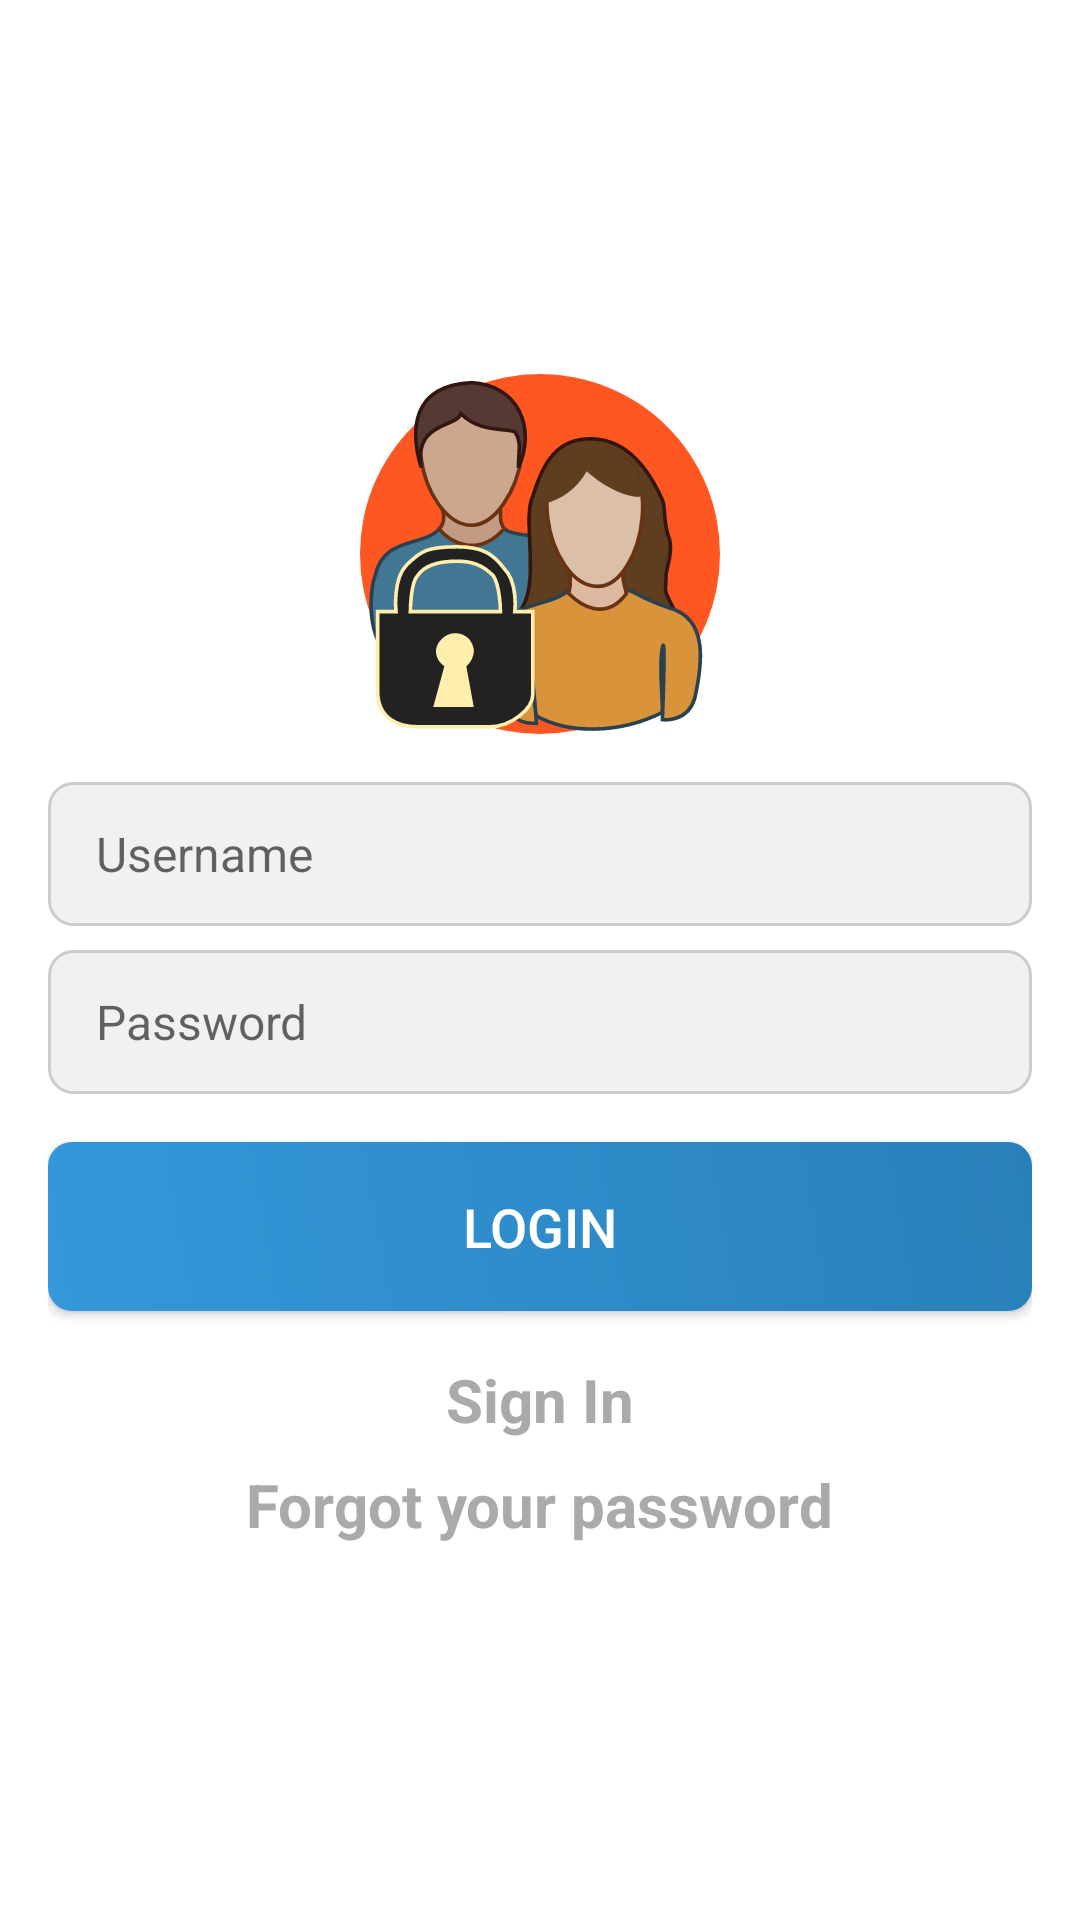

Screen size 1080*1920. Icon name, then its box in pixels as bbox(x1, y1, x2, y2):
user login: bbox(360, 374, 720, 734)
